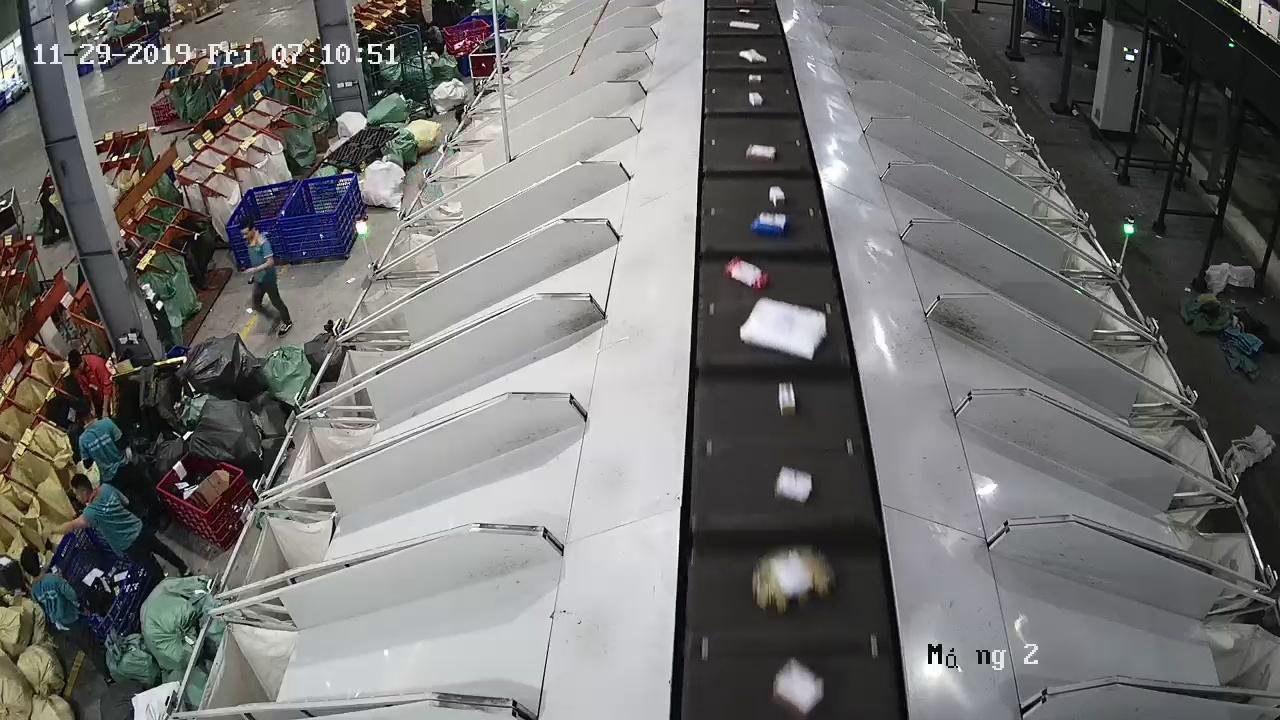parcel: (751, 545, 838, 615), (739, 296, 827, 361), (771, 658, 826, 720), (724, 256, 771, 293), (774, 466, 813, 504), (749, 210, 791, 237), (745, 143, 778, 164), (778, 381, 797, 417), (768, 185, 786, 206)
